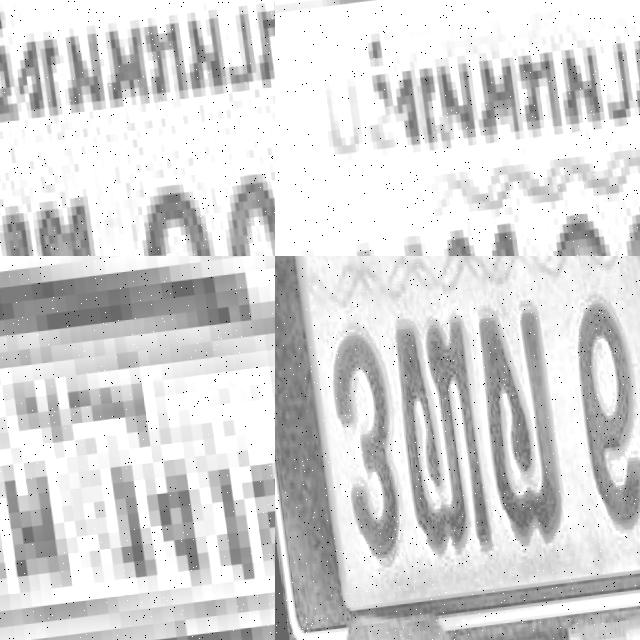license-plate: (275, 256, 640, 640), (0, 256, 275, 640), (275, 0, 640, 256), (0, 0, 275, 256)
